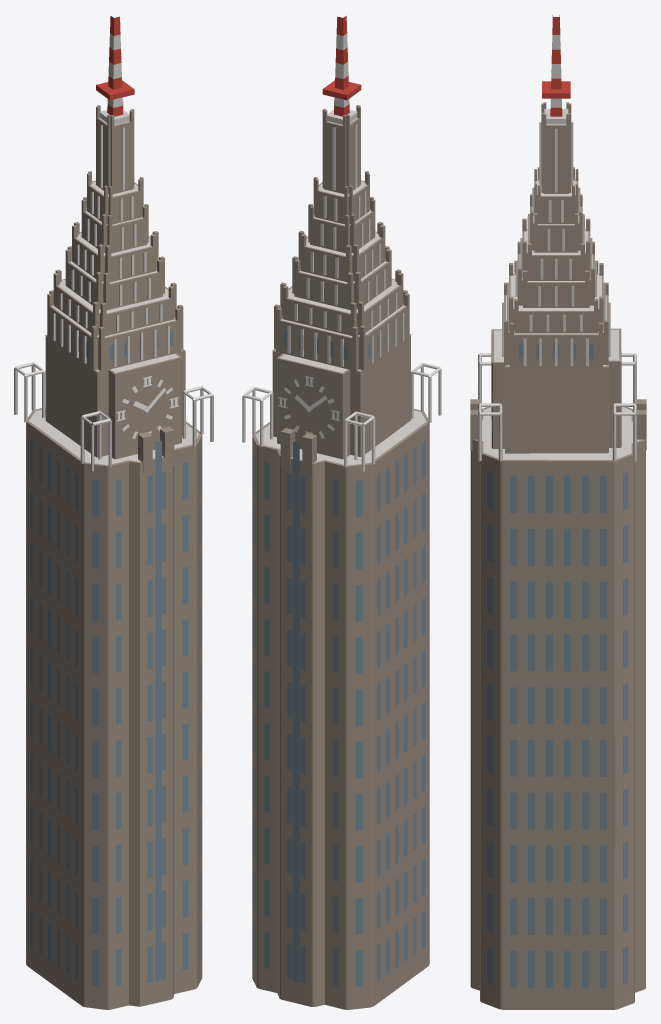
File: tokyo-docomo-yoyogi.glb
The picture shows the model from 3 angles, left to right: view 1: azimuth 30°, elevation 25°; view 2: azimuth 150°, elevation 25°; view 3: azimuth 270°, elevation 25°; orthographic projection.
Visible parts, largest first — view 1: NTT Docomo Yoyogi Building; view 2: NTT Docomo Yoyogi Building; view 3: NTT Docomo Yoyogi Building.
Boxes of the visible parts, x1=… form: NTT Docomo Yoyogi Building: x1=14, y1=16, x2=213, y2=1009; NTT Docomo Yoyogi Building: x1=242, y1=15, x2=441, y2=1009; NTT Docomo Yoyogi Building: x1=470, y1=15, x2=646, y2=1009.
Bounding box in the file's own units: 36.2 × 269 × 44.51.
